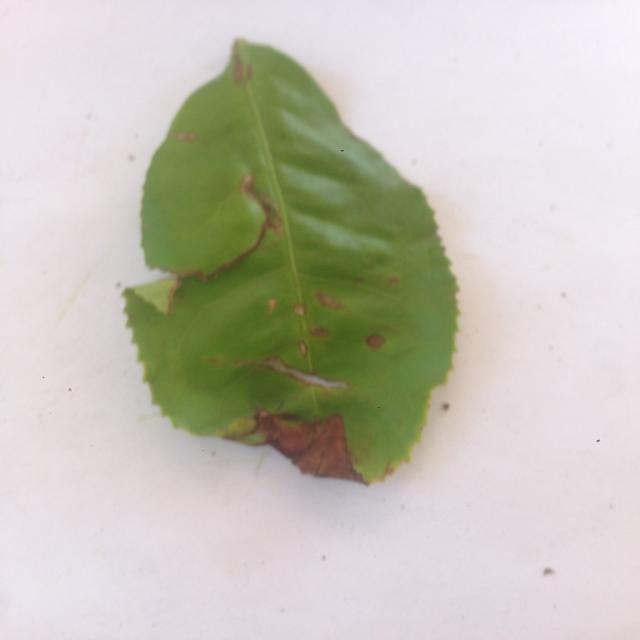Brown Blight: (123, 28, 465, 488)
